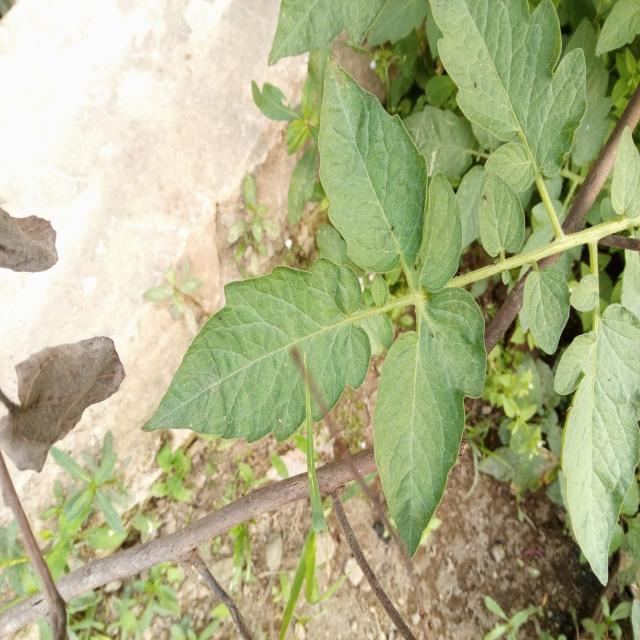Healthy: (142, 218, 409, 512), (327, 274, 511, 559), (431, 0, 586, 176), (317, 56, 430, 276), (555, 304, 640, 584), (413, 171, 472, 295), (522, 264, 570, 354), (480, 173, 524, 258)
